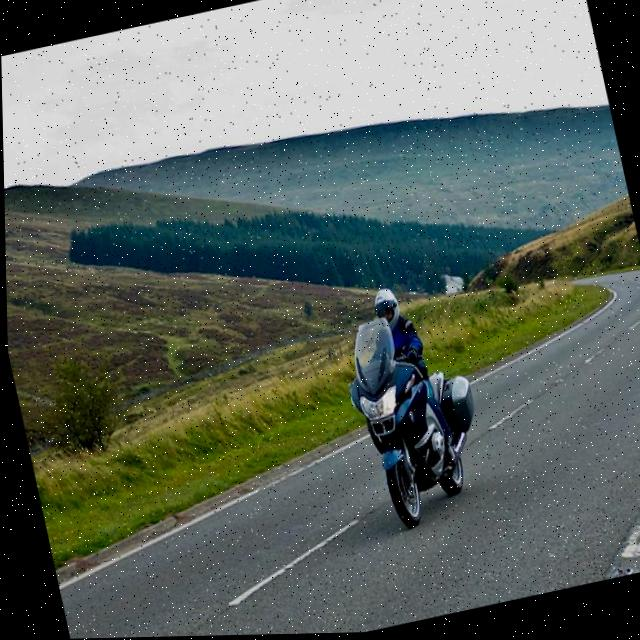motorcycle: (334, 308, 502, 535)
